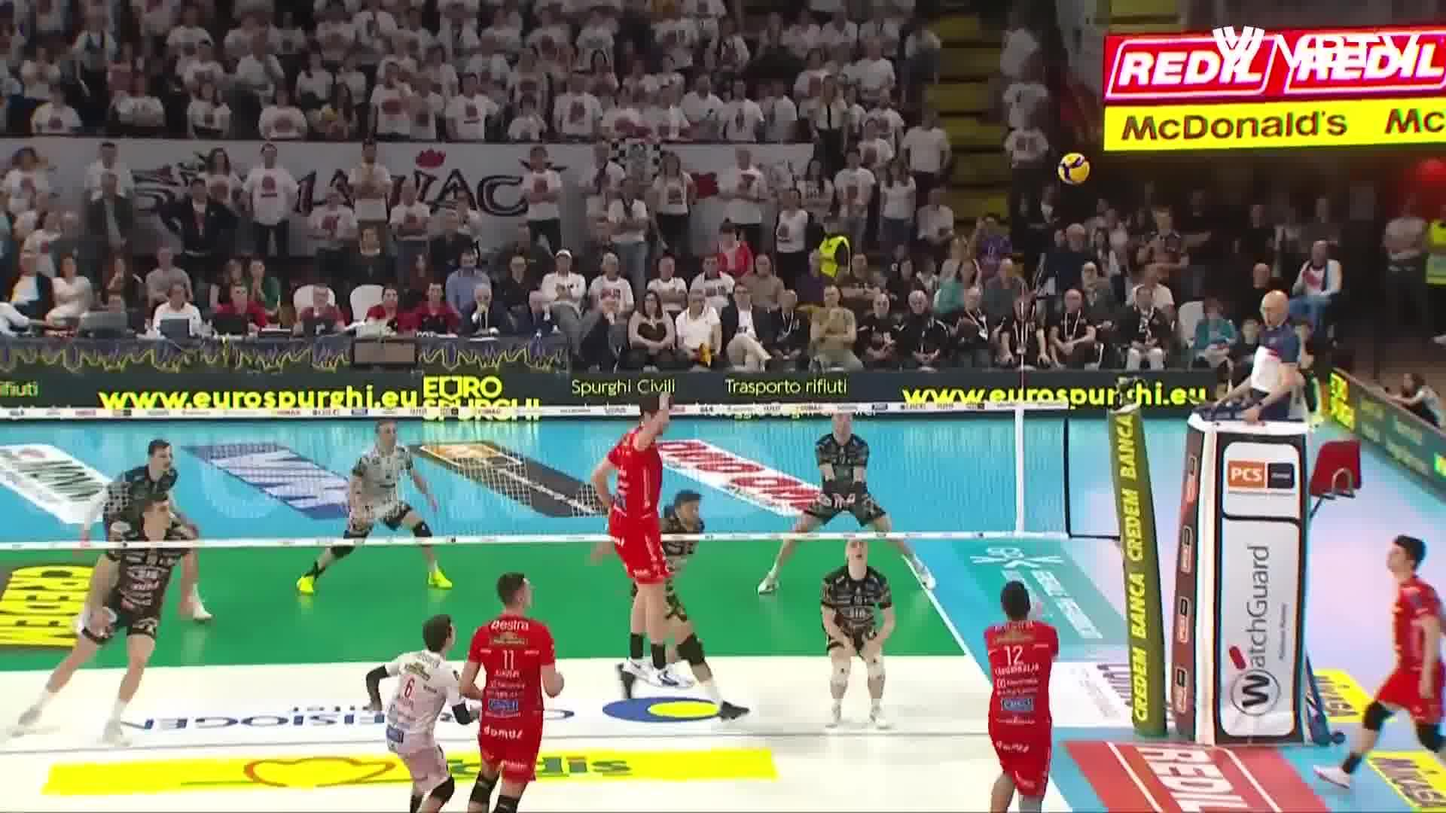balls: (1054, 151, 1094, 186)
